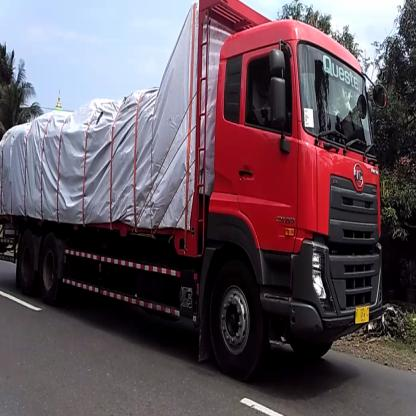truck: (1, 1, 387, 380)
